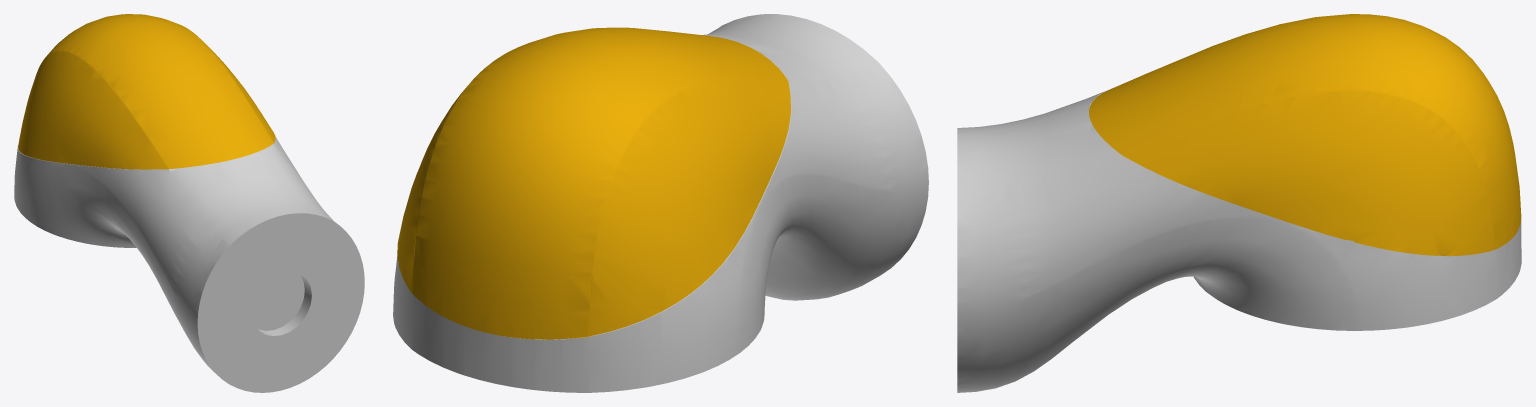
3 views of the same model, side by side, from view 1: azimuth 30°, elevation 25°; view 2: azimuth 150°, elevation 25°; view 3: azimuth 270°, elevation 25° (orthographic). The views are drawn at different scales.
Visible parts, largest first — view 1: ShapeIndexedFaceSet-mesh, ShapeIndexedFaceSet-mesh_1; view 2: ShapeIndexedFaceSet-mesh_1, ShapeIndexedFaceSet-mesh; view 3: ShapeIndexedFaceSet-mesh, ShapeIndexedFaceSet-mesh_1.
Boxes of the visible parts, x1=… form: ShapeIndexedFaceSet-mesh: x1=14, y1=137, x2=364, y2=392; ShapeIndexedFaceSet-mesh_1: x1=18, y1=14, x2=275, y2=169; ShapeIndexedFaceSet-mesh_1: x1=397, y1=27, x2=790, y2=339; ShapeIndexedFaceSet-mesh: x1=393, y1=14, x2=928, y2=392; ShapeIndexedFaceSet-mesh: x1=957, y1=88, x2=1521, y2=392; ShapeIndexedFaceSet-mesh_1: x1=1089, y1=14, x2=1521, y2=256.
Size of the model in its own units: 0.171 by 0.2001 by 0.2899.
